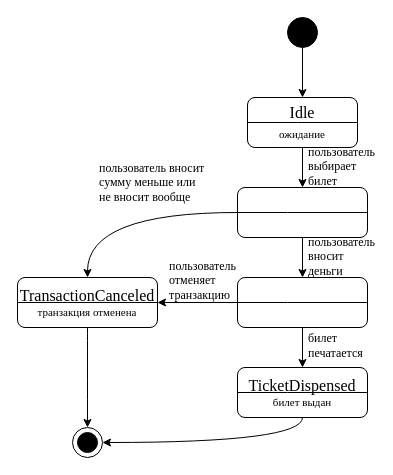
Image size: 393x475. Some labels were removed from this diagram. The centre of each missing label's shape, as x and y in pixels:
MoneyReceived деньги получены: (302,302)
WaitingForMoney ожидание внесения денег: (302,212)
